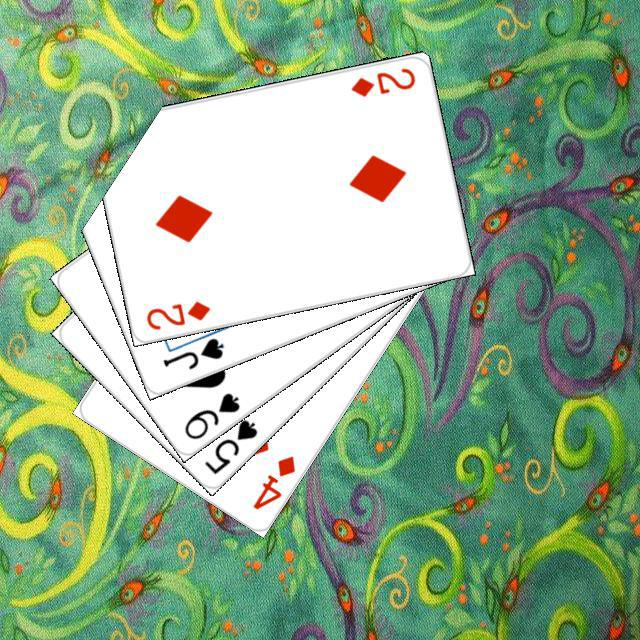2d: (141, 295, 212, 332), (346, 63, 417, 99)
4d: (248, 450, 297, 511)
5s: (199, 414, 259, 476)
9s: (179, 387, 242, 442)
Js: (157, 332, 226, 371)
